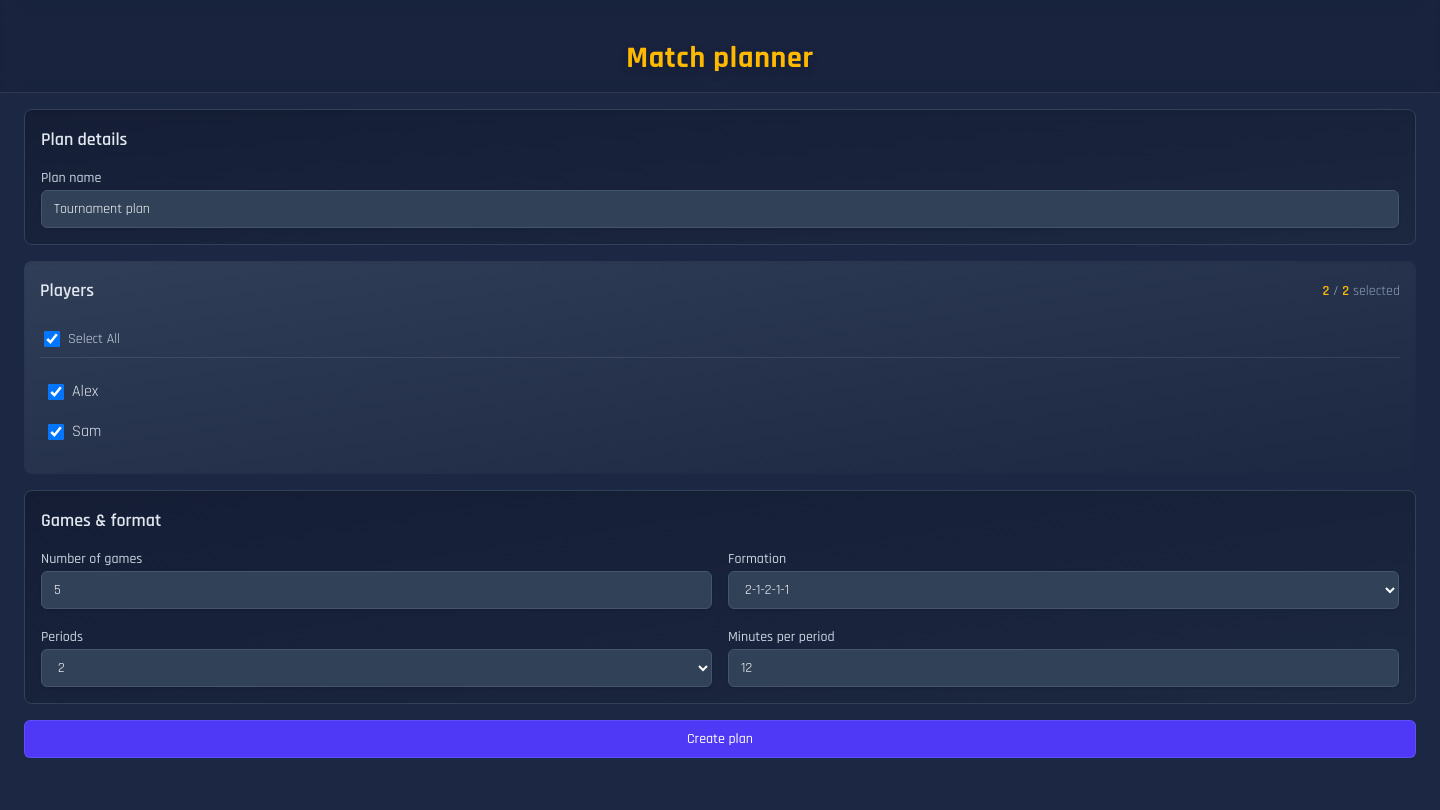
Test: PlaytimePlannerModal › disables create when no players are selected
Expected: the button "Create plan" is shown, [24,720,1416,758]
Click the checkbox labelled "Select All" at (52, 339), box [44,331,60,347]
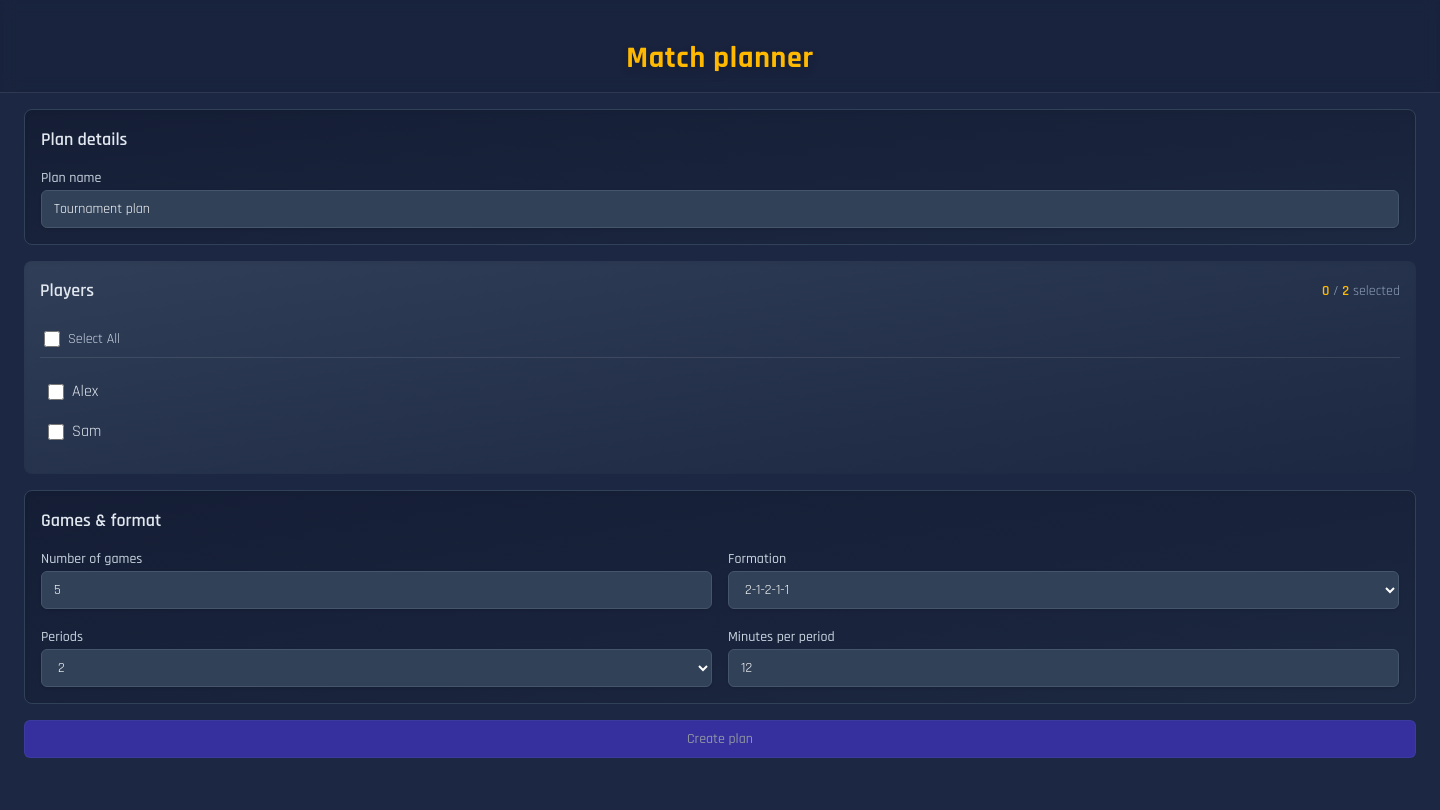
Result: the button "Create plan" is disabled at [24,720,1416,758]
